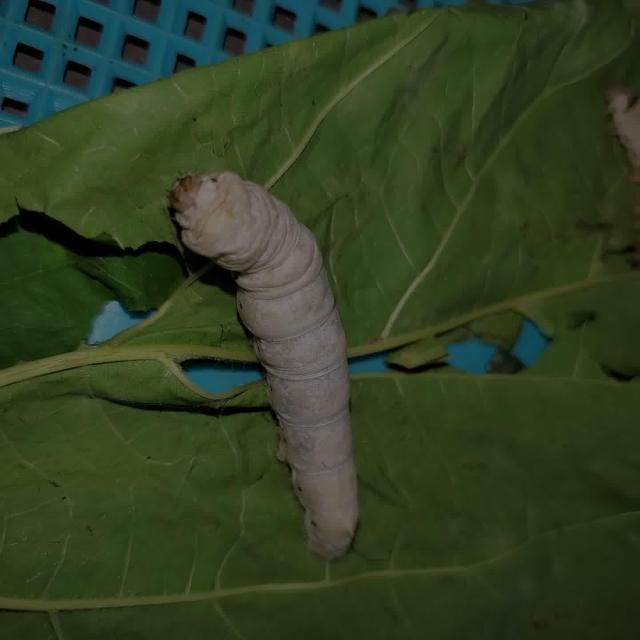Grasserie: (158, 154, 374, 580)
